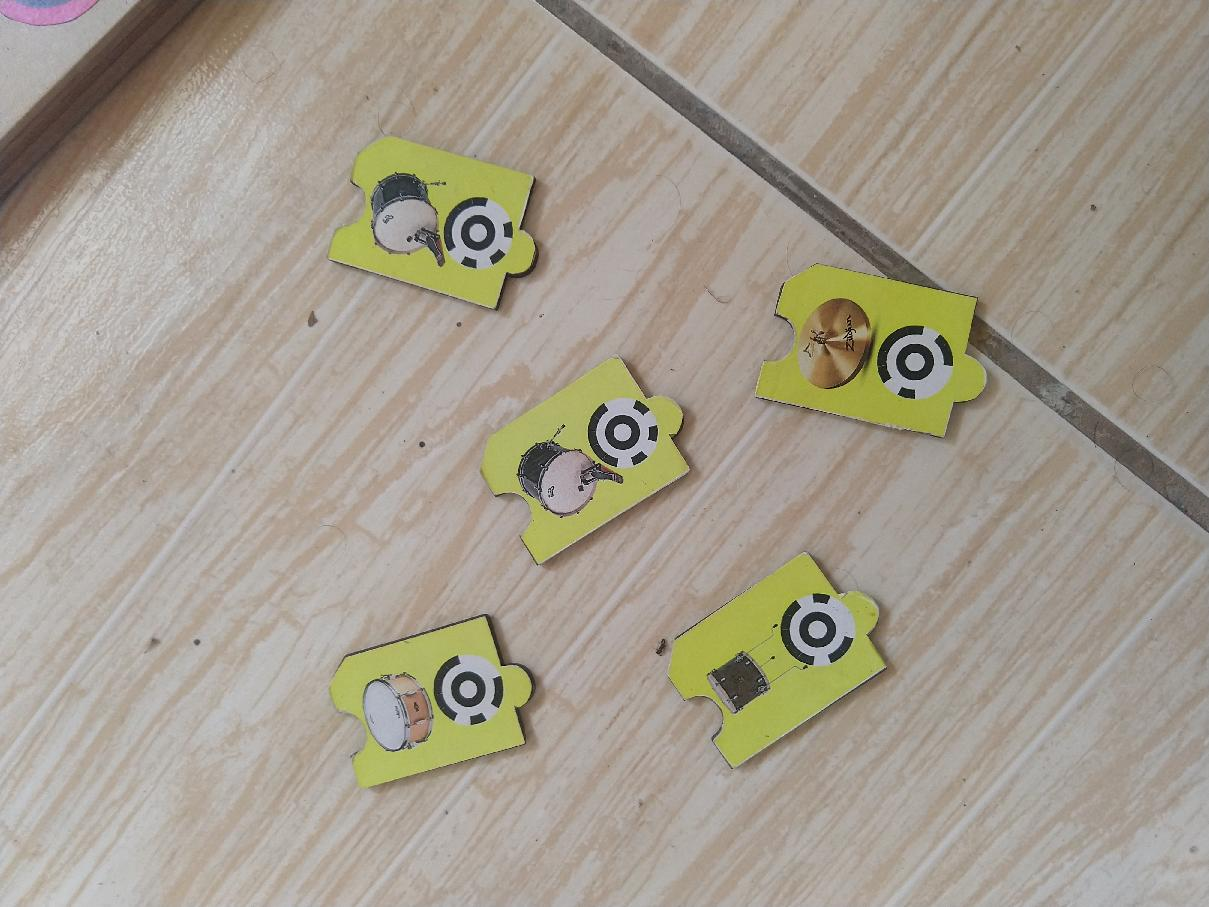bumbo: (479, 345, 696, 571), (329, 131, 543, 323)
